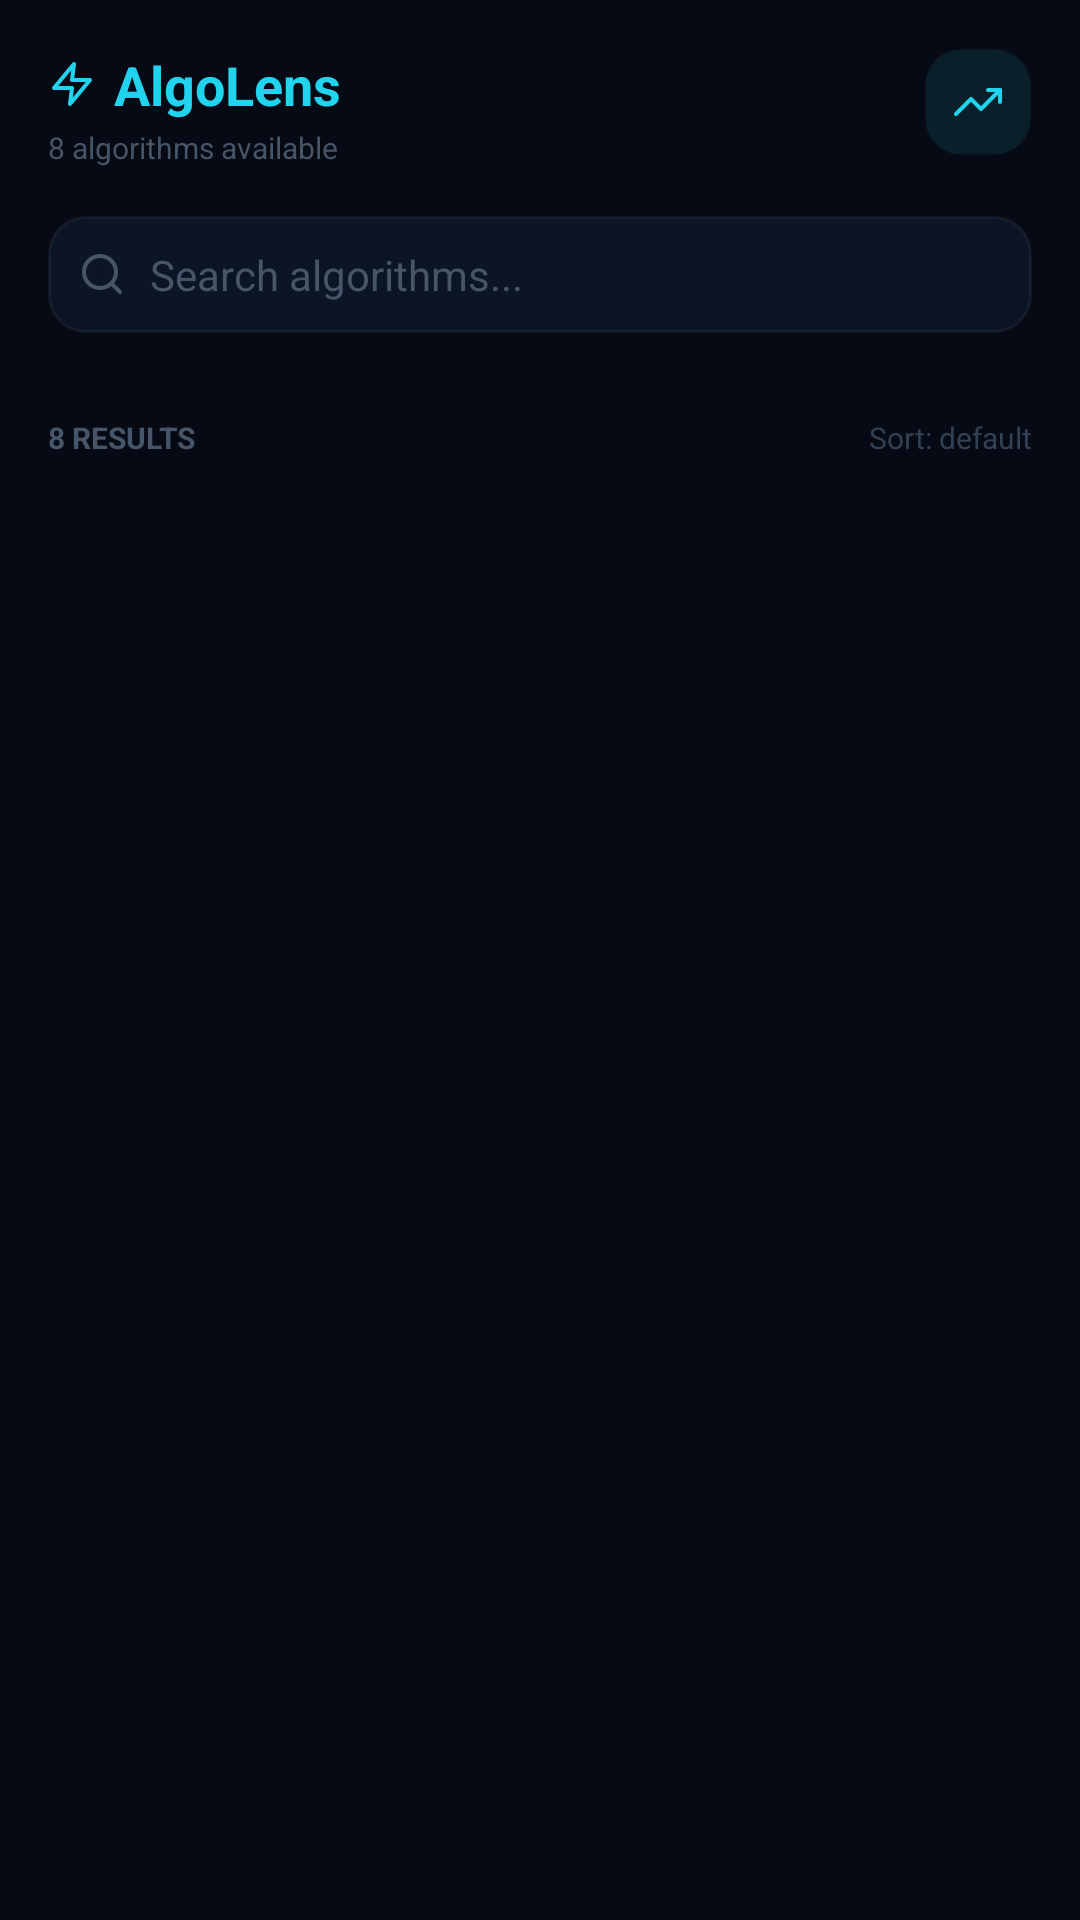

Screen size 1080*1920. Icon name, then its center in pixels as point (x, y):
trending: point (978, 102)
zap: point (72, 84)
